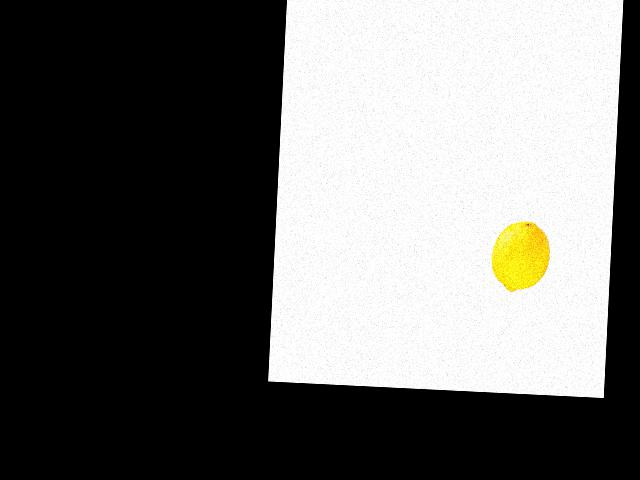lemon: (487, 218, 552, 294)
